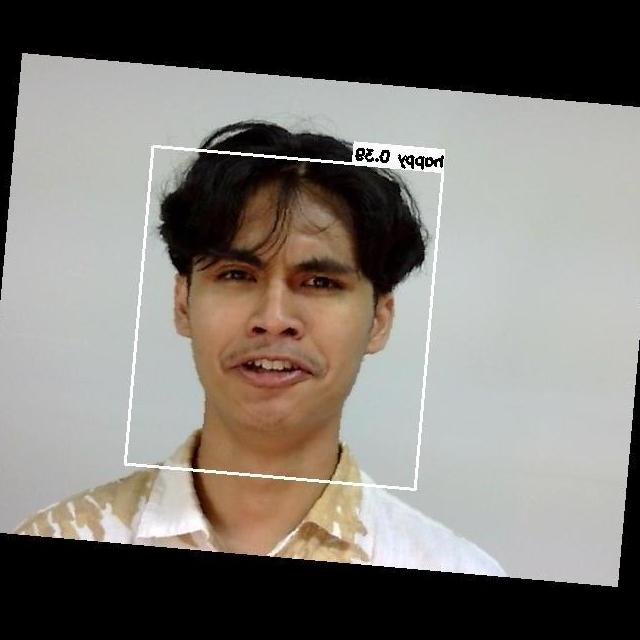Fear: (185, 221, 376, 409)
